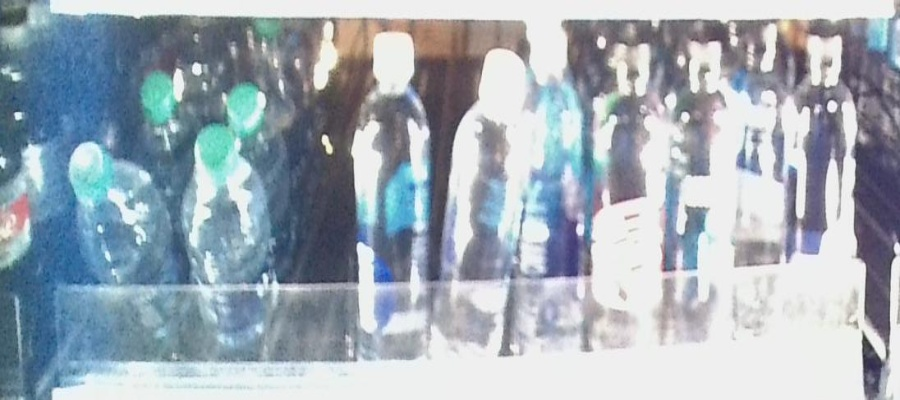bottle: (348, 21, 434, 366), (446, 48, 521, 378), (176, 120, 271, 371), (63, 135, 167, 360), (595, 29, 665, 350), (525, 29, 590, 350), (798, 14, 860, 345), (672, 32, 733, 353), (738, 14, 792, 352)
